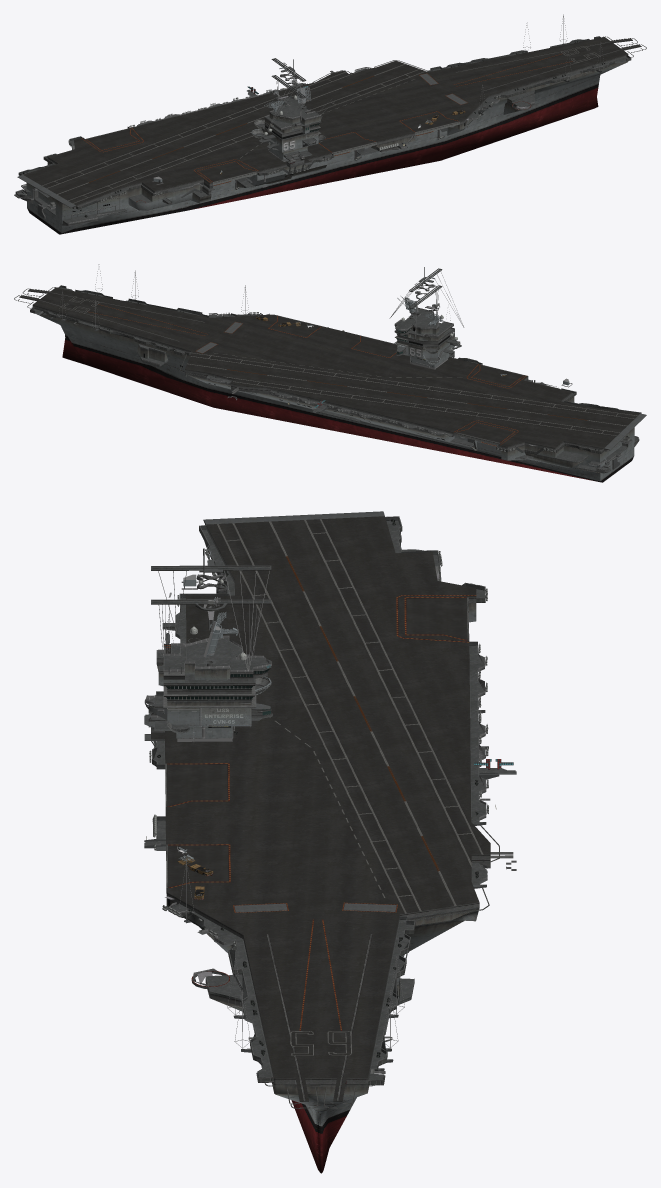
Rendered from cvn65_lo.glb.
3 views of the same model, one above another, from view 1: azimuth 30°, elevation 25°; view 2: azimuth 150°, elevation 25°; view 3: azimuth 270°, elevation 25° (orthographic). The views are drawn at different scales.
Parts seen in each view (by area): view 1: Sketchfab_Scene_Object_2, Sketchfab_Scene_Object_0, Sketchfab_Scene_Object_5, Sketchfab_Scene_Object_11, Sketchfab_Scene_Object_6, Sketchfab_Scene_Object_10, Sketchfab_Scene_Object_12, Sketchfab_Scene_Object_16; view 2: Sketchfab_Scene_Object_2, Sketchfab_Scene_Object_0, Sketchfab_Scene_Object_5, Sketchfab_Scene_Object_11, Sketchfab_Scene_Object_6, Sketchfab_Scene_Object_10, Sketchfab_Scene_Object_12, Sketchfab_Scene_Object_16; view 3: Sketchfab_Scene_Object_2, Sketchfab_Scene_Object_5, Sketchfab_Scene_Object_0, Sketchfab_Scene_Object_11, Sketchfab_Scene_Object_6, Sketchfab_Scene_Object_10, Sketchfab_Scene_Object_16, Sketchfab_Scene_Object_12.
Boxes of the visible parts, left/top/right/bottom form: Sketchfab_Scene_Object_2: left=23, top=37, right=641, bottom=205; Sketchfab_Scene_Object_0: left=14, top=39, right=628, bottom=234; Sketchfab_Scene_Object_5: left=15, top=36, right=646, bottom=225; Sketchfab_Scene_Object_11: left=42, top=46, right=600, bottom=203; Sketchfab_Scene_Object_6: left=81, top=39, right=640, bottom=182; Sketchfab_Scene_Object_10: left=23, top=41, right=605, bottom=217; Sketchfab_Scene_Object_12: left=18, top=39, right=589, bottom=223; Sketchfab_Scene_Object_16: left=130, top=14, right=604, bottom=179; Sketchfab_Scene_Object_2: left=19, top=287, right=639, bottom=448; Sketchfab_Scene_Object_0: left=34, top=269, right=641, bottom=482; Sketchfab_Scene_Object_5: left=14, top=267, right=646, bottom=472; Sketchfab_Scene_Object_11: left=60, top=291, right=637, bottom=435; Sketchfab_Scene_Object_6: left=20, top=290, right=587, bottom=445; Sketchfab_Scene_Object_10: left=53, top=281, right=630, bottom=452; Sketchfab_Scene_Object_12: left=39, top=283, right=638, bottom=468; Sketchfab_Scene_Object_16: left=59, top=264, right=568, bottom=433; Sketchfab_Scene_Object_2: left=151, top=516, right=490, bottom=1100; Sketchfab_Scene_Object_5: left=144, top=511, right=516, bottom=1108; Sketchfab_Scene_Object_0: left=144, top=516, right=499, bottom=1173; Sketchfab_Scene_Object_11: left=208, top=519, right=483, bottom=1055; Sketchfab_Scene_Object_6: left=164, top=556, right=476, bottom=1100; Sketchfab_Scene_Object_10: left=146, top=519, right=513, bottom=1057; Sketchfab_Scene_Object_16: left=158, top=570, right=487, bottom=1048; Sketchfab_Scene_Object_12: left=145, top=569, right=516, bottom=1073.
Bounding box in the file's own units: 342 × 80.87 × 91.05.
Materials: 11 (10 with a texture image).
